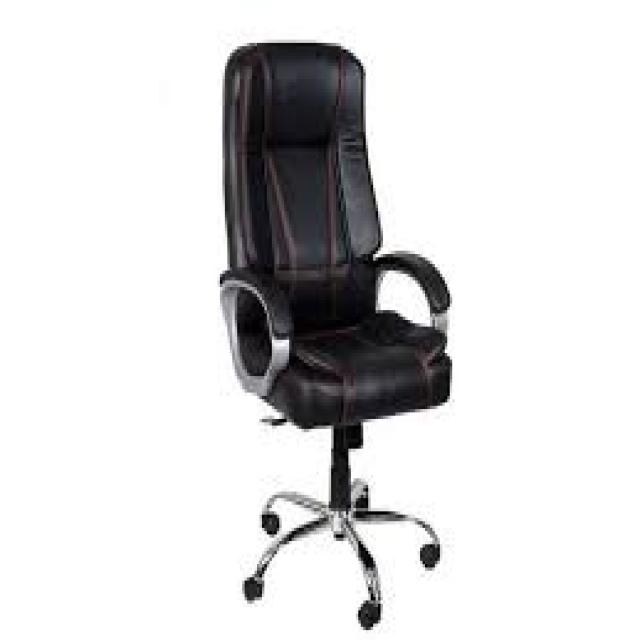obstacle: (190, 20, 464, 639)
